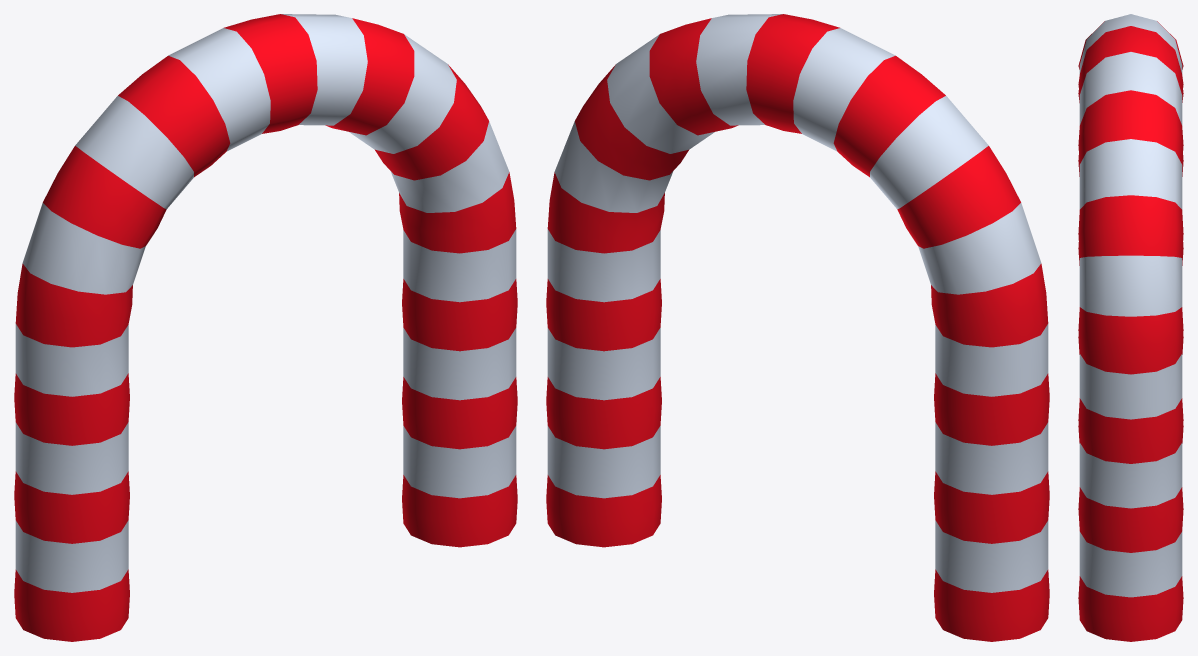
File: arch_candy_001.fbx
3 renders of one model, left to right at view 1: azimuth 30°, elevation 25°; view 2: azimuth 150°, elevation 25°; view 3: azimuth 270°, elevation 25°, orthographic. The views are drawn at different scales.
Parts seen in each view (by area): view 1: arch_candy_001; view 2: arch_candy_001; view 3: arch_candy_001.
Boxes of the visible parts, x1,y1,x2,y2 form: arch_candy_001: (14,14,517,641); arch_candy_001: (546,14,1049,641); arch_candy_001: (1078,14,1183,641).
Size of the model in its own units: 374 by 76.85 by 401.
